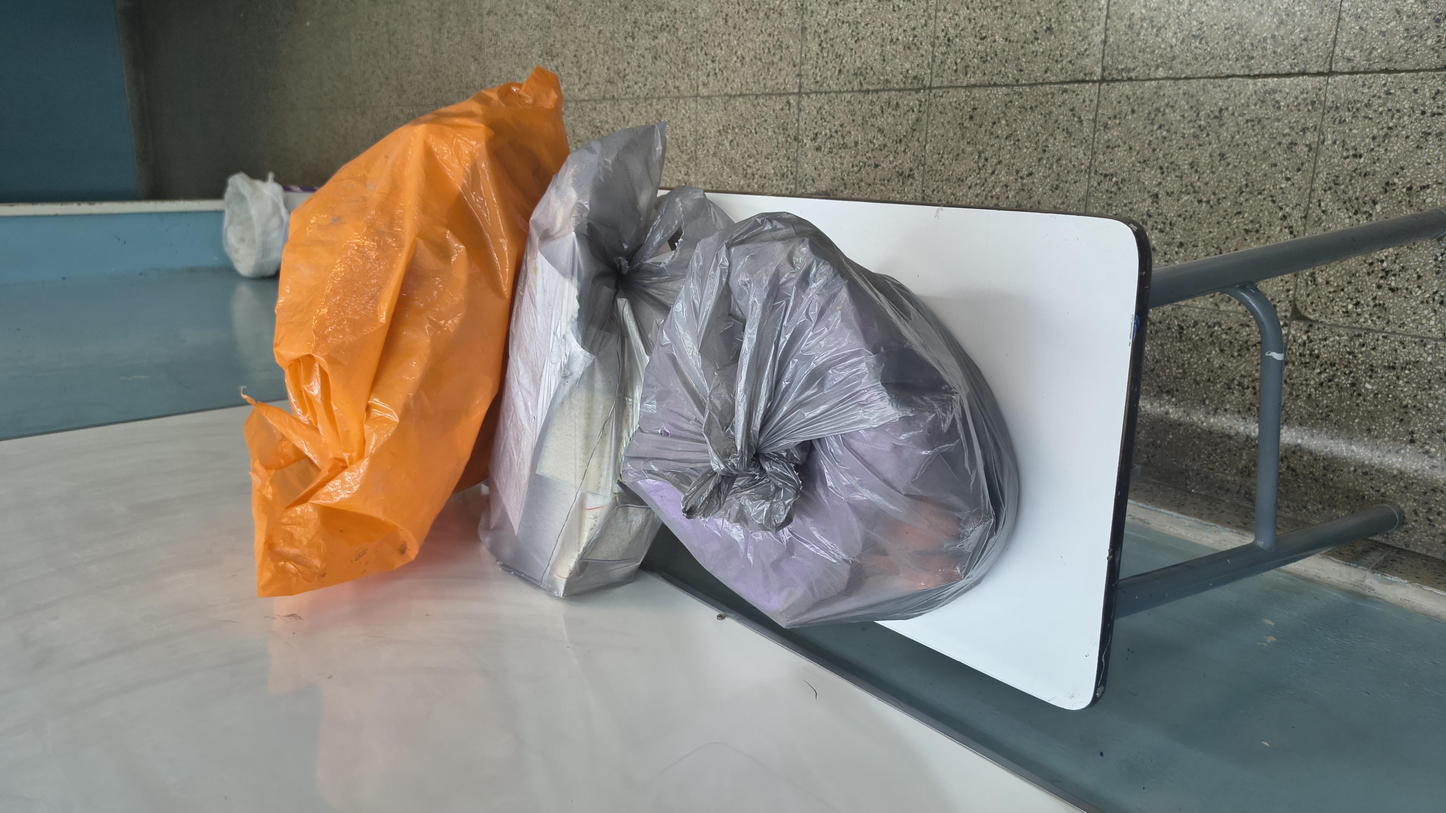Garbage: (364, 119, 1356, 331), (314, 343, 1105, 590), (370, 260, 1243, 381)
